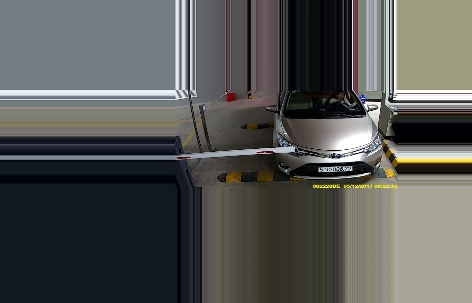plate: (317, 164, 356, 173)
